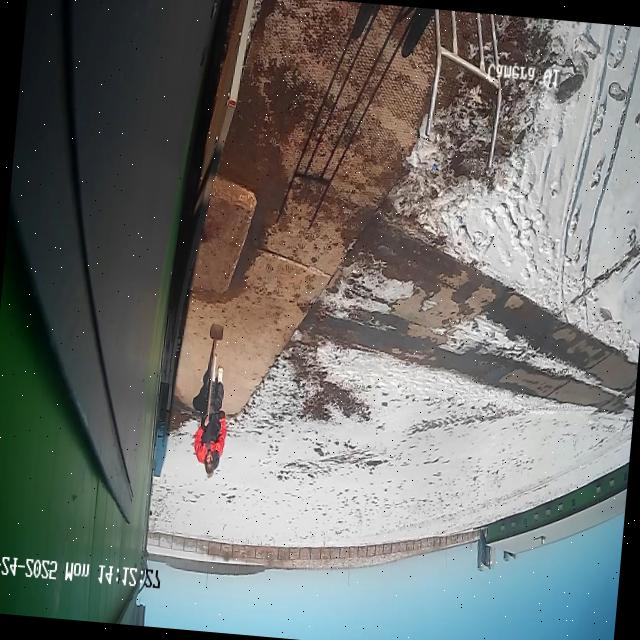Red uniform: (193, 361, 226, 477)
